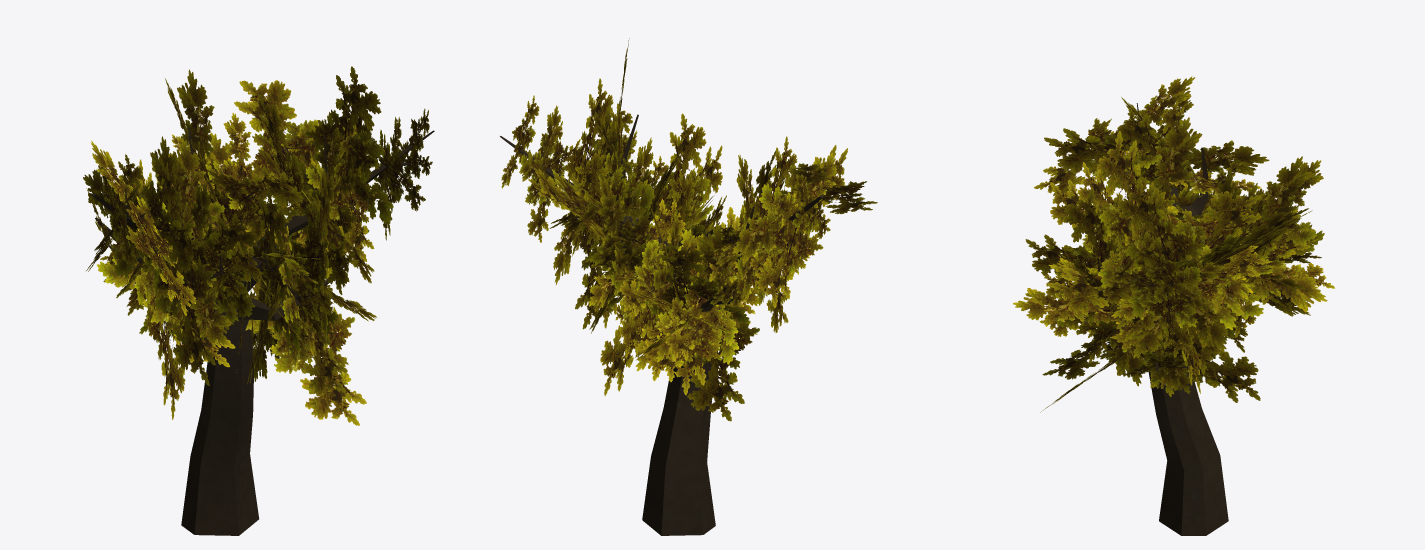
File: Boom 2 af.fbx
3 renders of one model, left to right at view 1: azimuth 30°, elevation 25°; view 2: azimuth 150°, elevation 25°; view 3: azimuth 270°, elevation 25°, orthographic. The views are drawn at different scales.
Parts seen in each view (by area): view 1: Goede boom 2, Plane.266, Plane.218, Plane.298, Plane.272, Plane.232, Plane.304, Plane.213, Plane.245, Plane.235, Plane.254, Plane.276 (+35 smaller); view 2: Goede boom 2, Plane.271, Plane.282, Plane.260, Plane.230, Plane.310, Plane.293, Plane.228, Plane.308, Plane.280, Plane.272, Plane.226 (+27 smaller); view 3: Goede boom 2, Plane.230, Plane.266, Plane.254, Plane.293, Plane.228, Plane.272, Plane.300, Plane.226, Plane.218, Plane.296, Plane.245 (+25 smaller).
Boxes of the visible parts, x1,y1,x2,y2 form: Goede boom 2: (92, 128, 434, 535); Plane.266: (305, 66, 393, 234); Plane.218: (139, 136, 215, 385); Plane.298: (245, 232, 366, 425); Plane.272: (91, 140, 196, 315); Plane.232: (239, 80, 334, 278); Plane.304: (252, 185, 300, 381); Plane.213: (83, 169, 201, 278); Plane.245: (151, 69, 243, 221); Plane.235: (269, 217, 354, 297); Plane.254: (207, 166, 302, 222); Plane.276: (200, 241, 262, 324); Goede boom 2: (500, 114, 825, 535); Plane.271: (756, 152, 836, 307); Plane.282: (644, 223, 759, 421); Plane.260: (575, 104, 654, 329); Plane.230: (553, 78, 613, 284); Plane.310: (659, 243, 749, 364); Plane.293: (650, 113, 714, 241); Plane.228: (573, 152, 652, 244); Plane.308: (655, 216, 740, 362); Plane.280: (642, 279, 758, 382); Plane.272: (773, 163, 877, 214); Plane.226: (520, 105, 562, 242); Goede boom 2: (1098, 103, 1278, 535); Plane.230: (1118, 178, 1228, 352); Plane.266: (1097, 131, 1174, 309); Plane.254: (1133, 187, 1326, 330); Plane.293: (1055, 188, 1148, 386); Plane.228: (1125, 191, 1261, 358); Plane.272: (1034, 76, 1195, 197); Plane.300: (1054, 307, 1260, 402); Plane.226: (1141, 230, 1201, 357); Plane.218: (1150, 117, 1215, 215); Plane.296: (1013, 251, 1199, 352); Plane.245: (1209, 156, 1324, 328).
Bounding box in the file's own units: 682 × 820 × 732.
